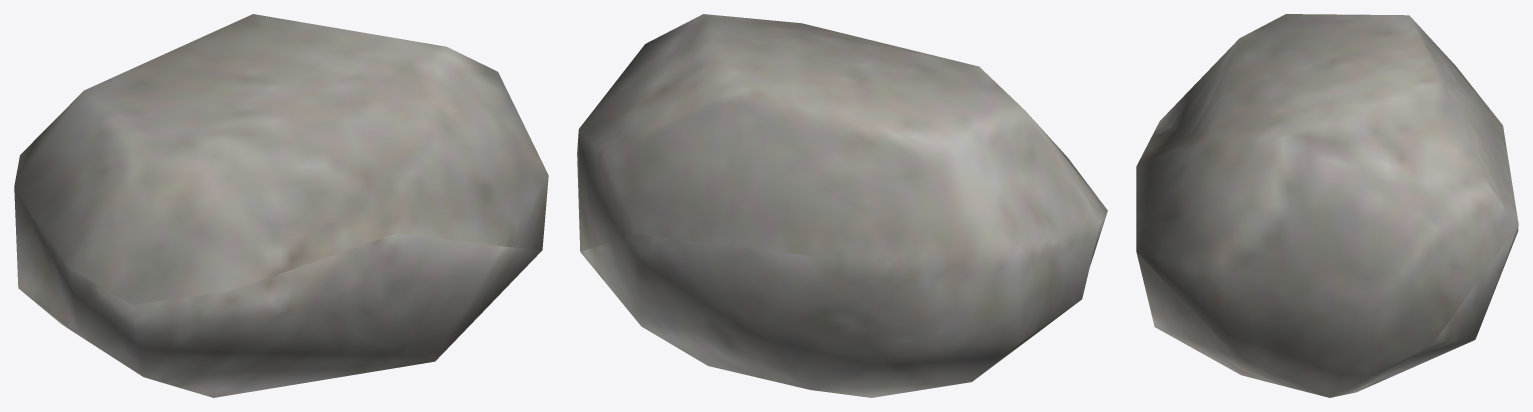
File: Rock_08.glb
3 views of the same model, side by side, from view 1: azimuth 30°, elevation 25°; view 2: azimuth 150°, elevation 25°; view 3: azimuth 270°, elevation 25° (orthographic). The views are drawn at different scales.
Parts seen in each view (by area): view 1: rock_08; view 2: rock_08; view 3: rock_08.
Boxes of the visible parts, bbox=[...] form: rock_08: bbox=[14, 14, 548, 397]; rock_08: bbox=[577, 14, 1107, 397]; rock_08: bbox=[1136, 14, 1518, 397].
Size of the model in its own units: 0.6766 by 0.3942 by 0.5108.
Materials: 1 (1 with a texture image).
